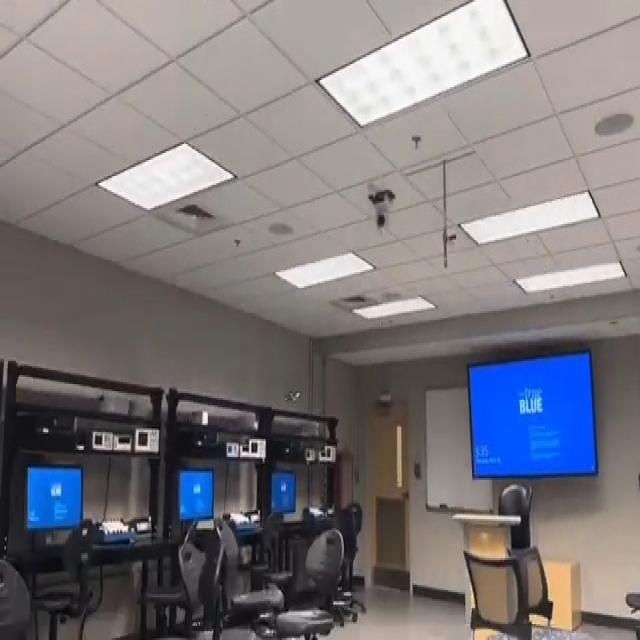drone: (277, 377, 302, 409)
